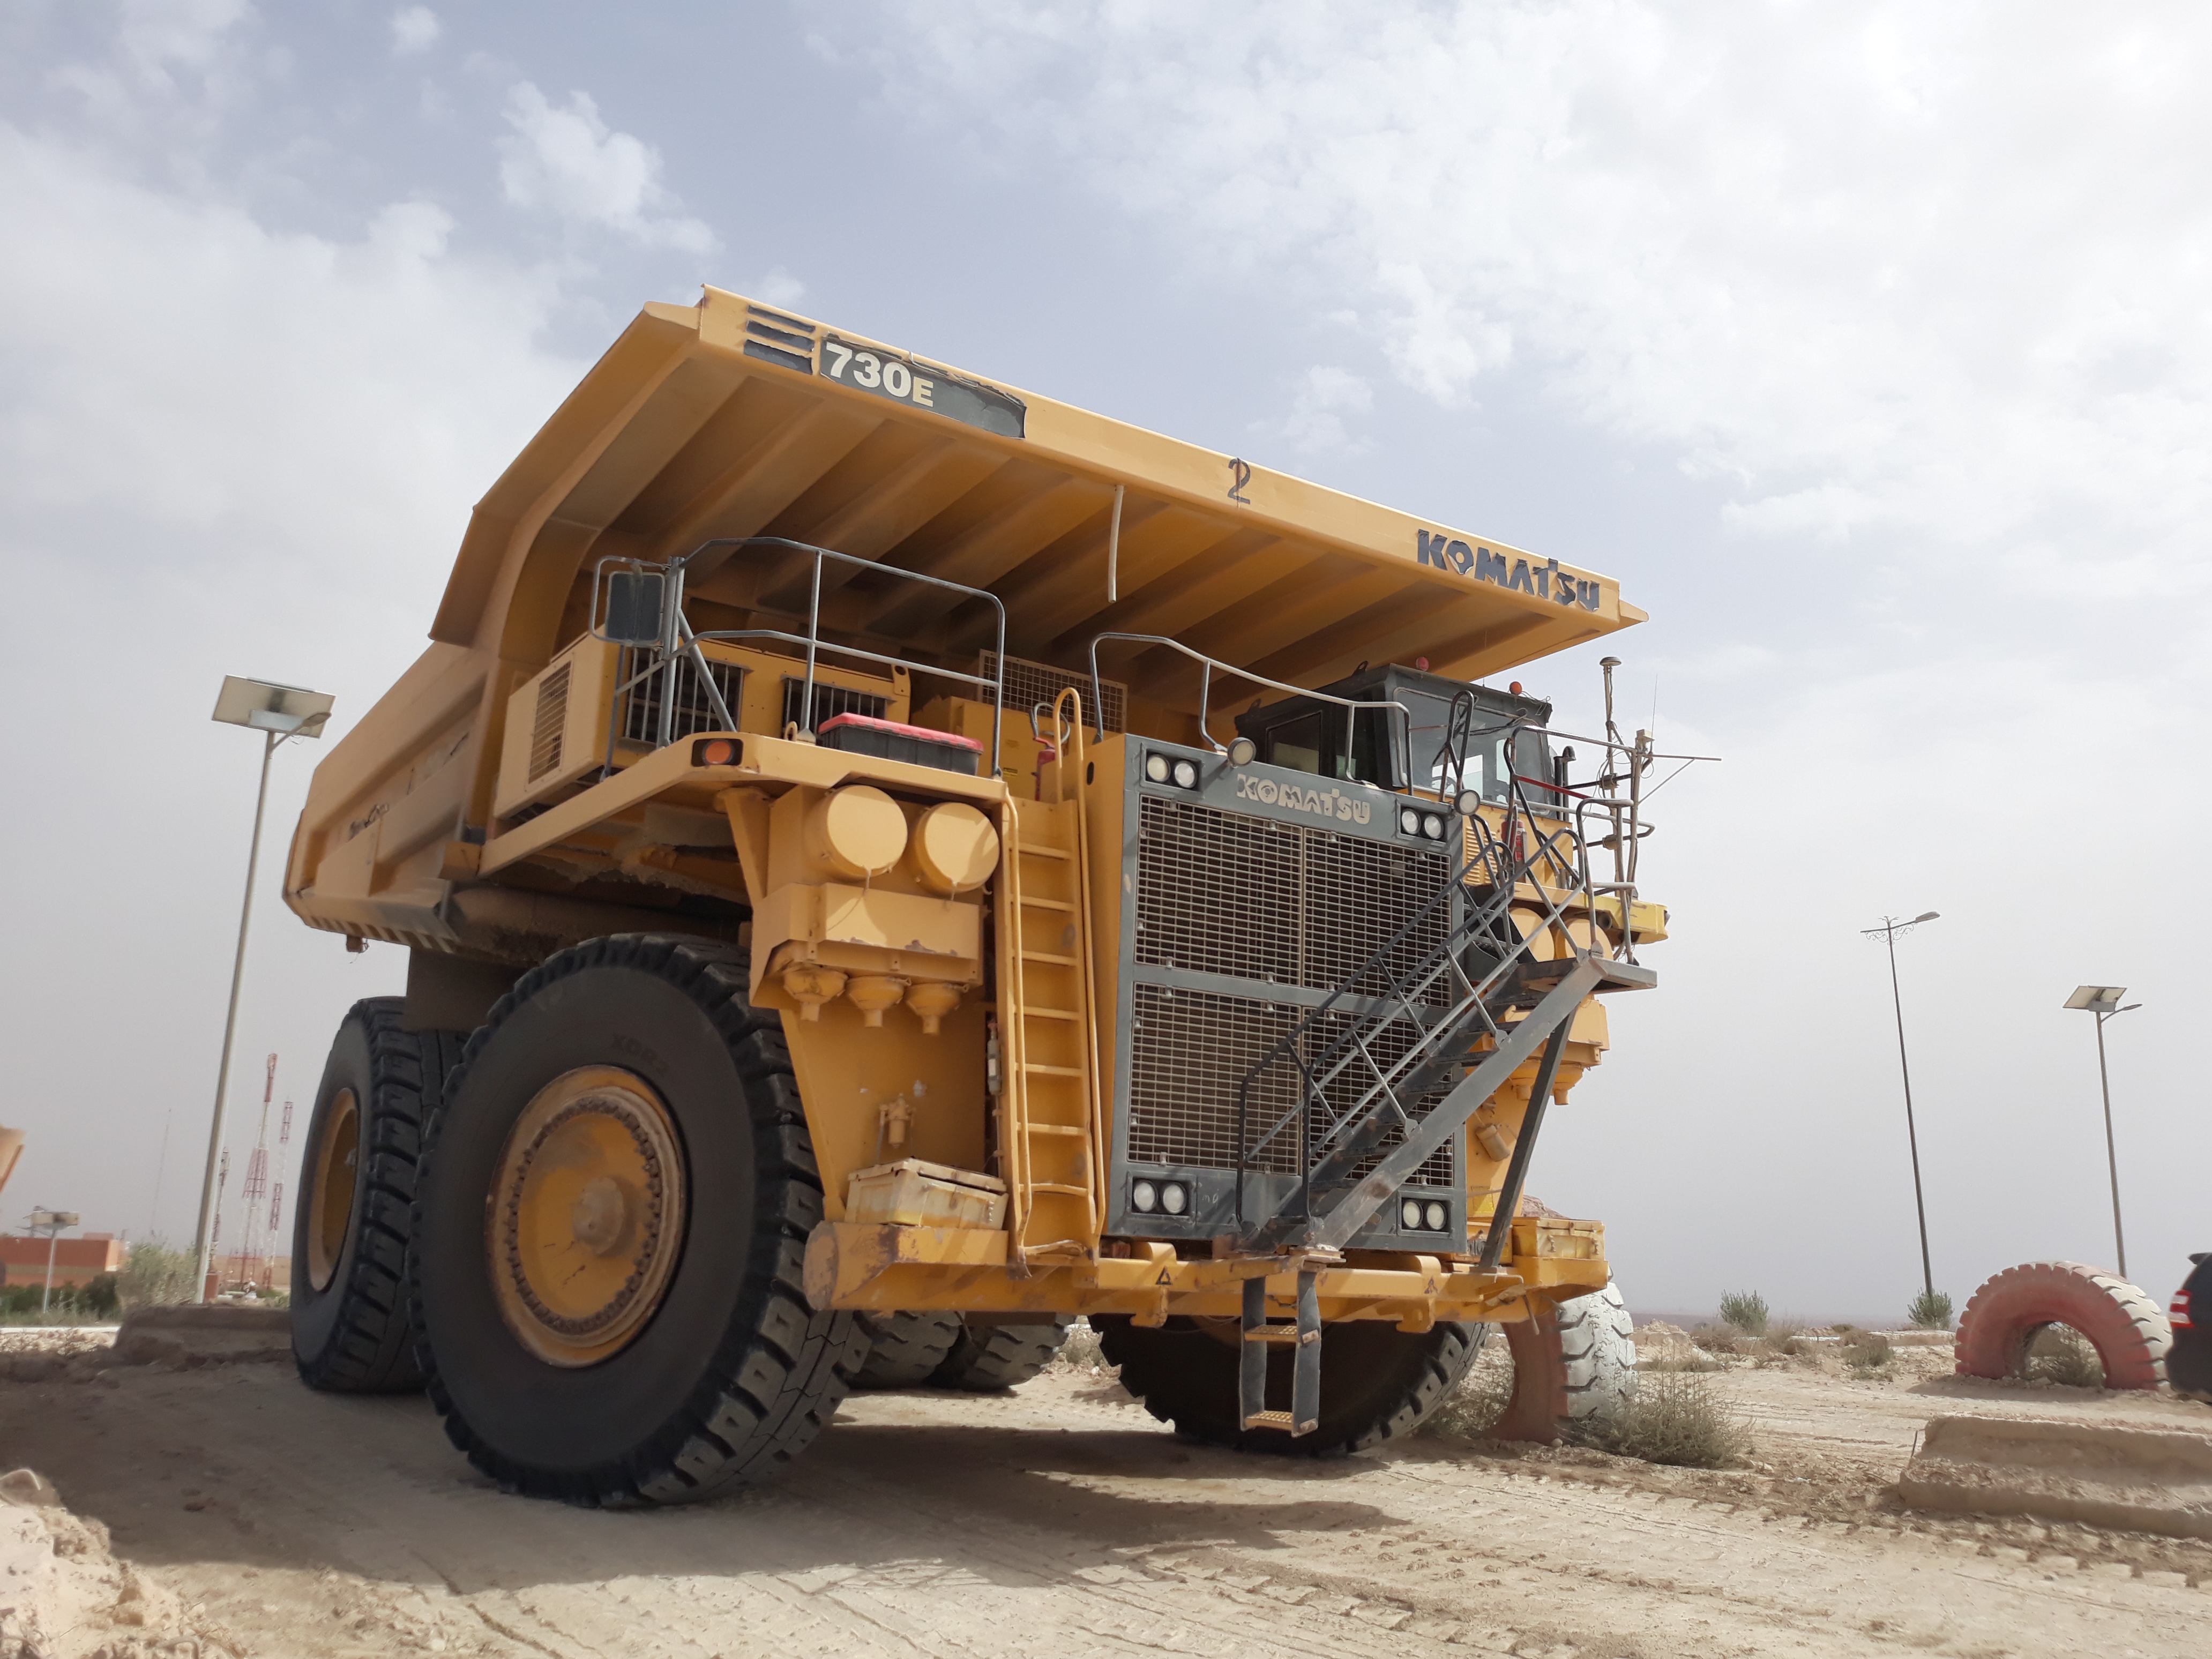camion: (216, 295, 1723, 1516)
